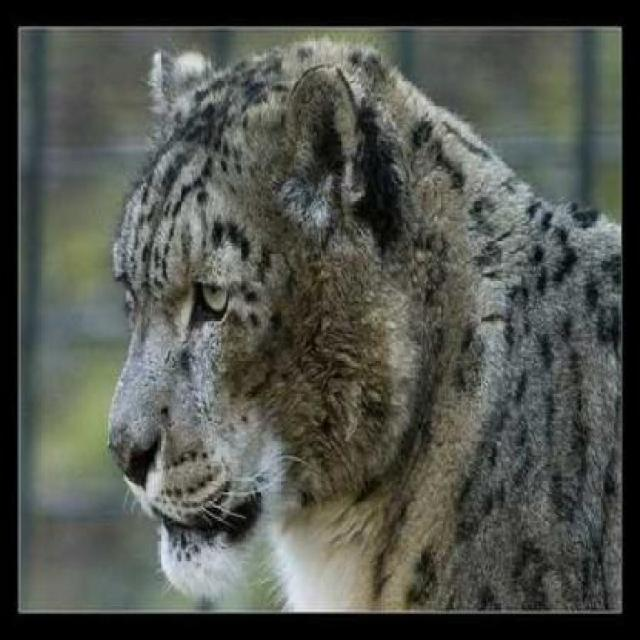Leopard: (62, 27, 629, 605)
